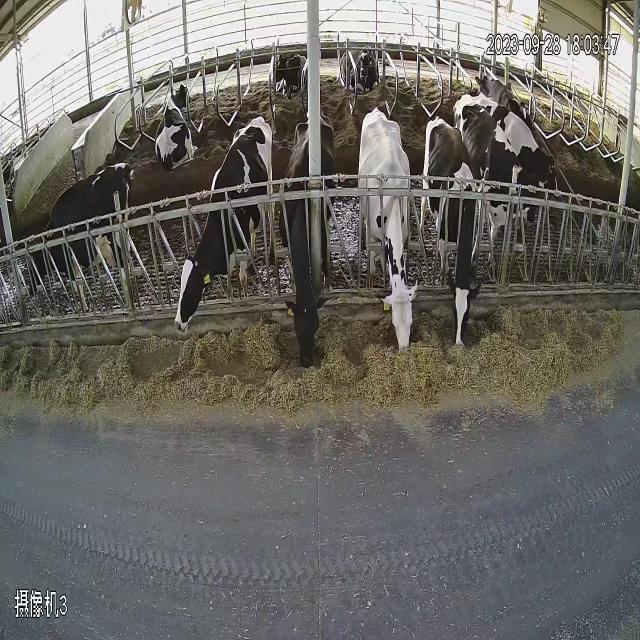feeding: (172, 112, 286, 344), (354, 96, 417, 415), (422, 90, 481, 402), (280, 116, 349, 382)
lying down: (245, 31, 400, 108), (148, 58, 204, 193), (470, 39, 532, 117)
standing: (11, 139, 151, 327)
